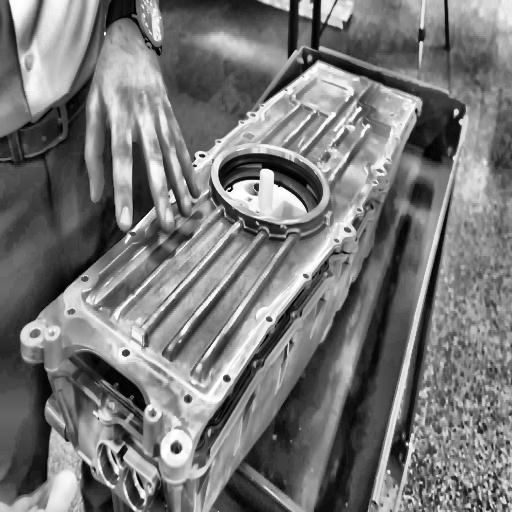bms_unit: (20, 60, 419, 484)
